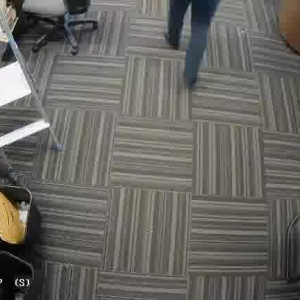person: (155, 0, 224, 90)
